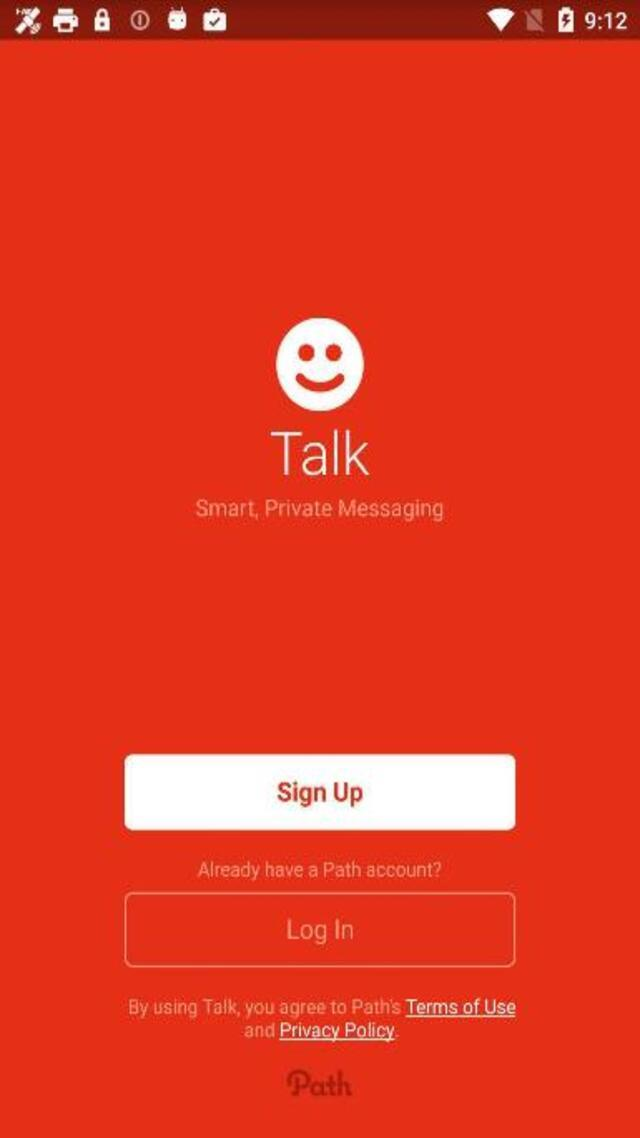Image: (274, 318, 364, 411), (285, 1066, 353, 1096)
Text: (126, 996, 522, 1020), (193, 496, 444, 521), (196, 859, 442, 880), (268, 428, 369, 476), (239, 1020, 401, 1044), (272, 776, 368, 812), (278, 916, 358, 949)
TextButton: (123, 892, 514, 967), (123, 754, 514, 829)
